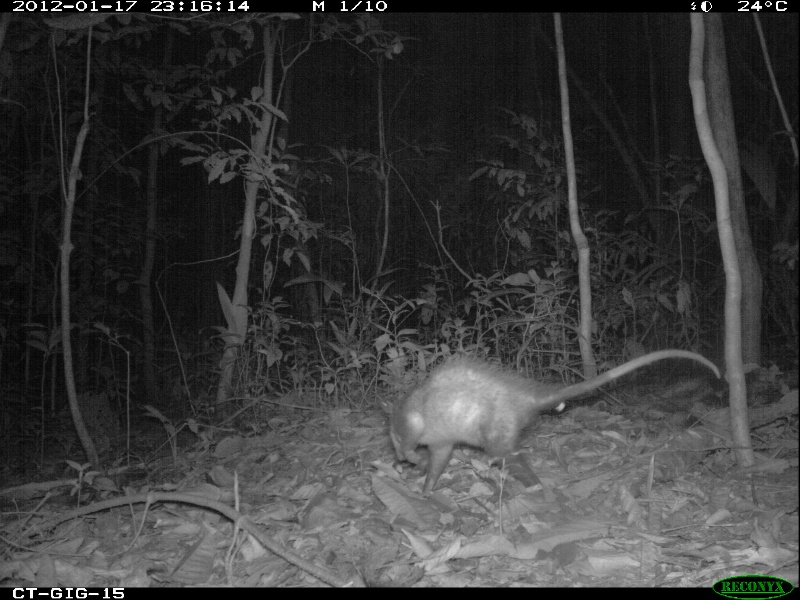opossum: (376, 326, 726, 500)
